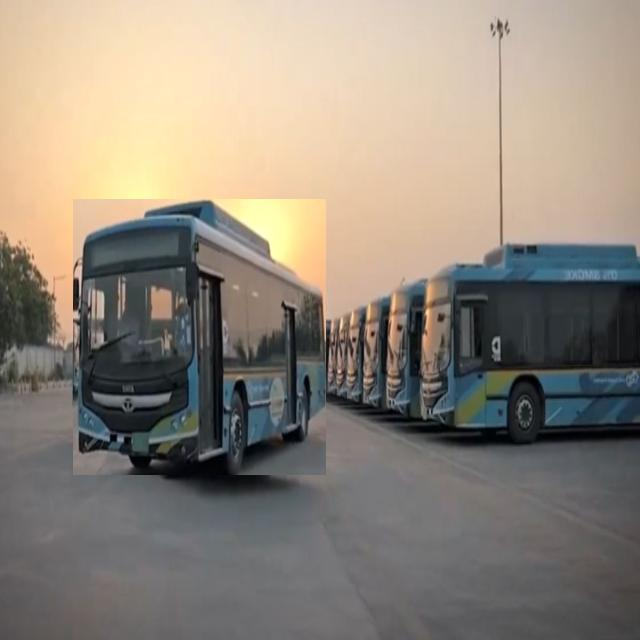bus: (73, 200, 325, 475), (421, 244, 640, 442)
